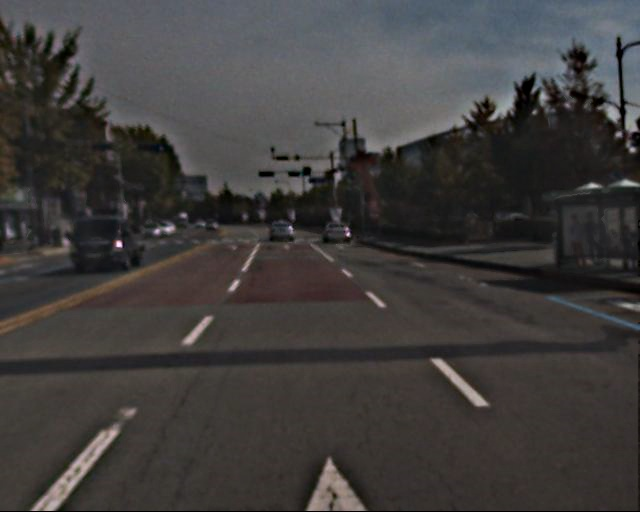person: (569, 214, 636, 270)
